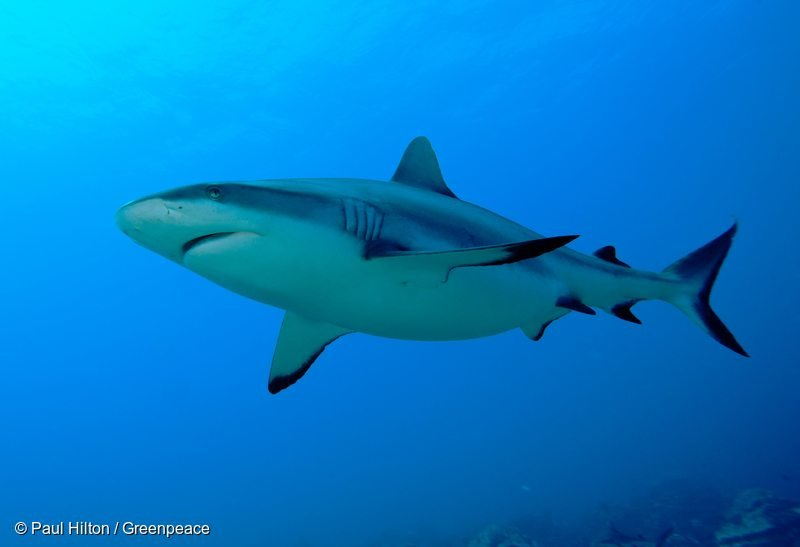shark: (115, 127, 757, 401)
